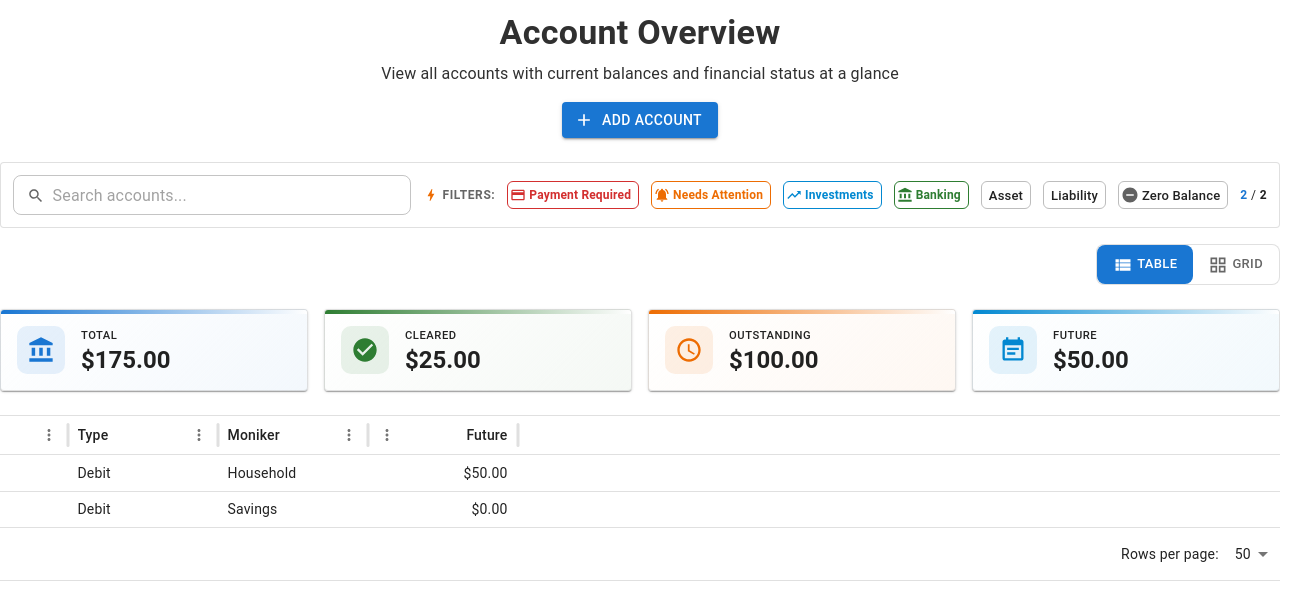
Scenario: pages/finance/index (Accounts) › Search and Filtering › filters accounts by search term
This screenshot has width=1292, height=598.
Note: Verify search input is functional
Type "Chase" into the field with placeholder "Search accounts..." at [232, 196], box [53,176,411,216]
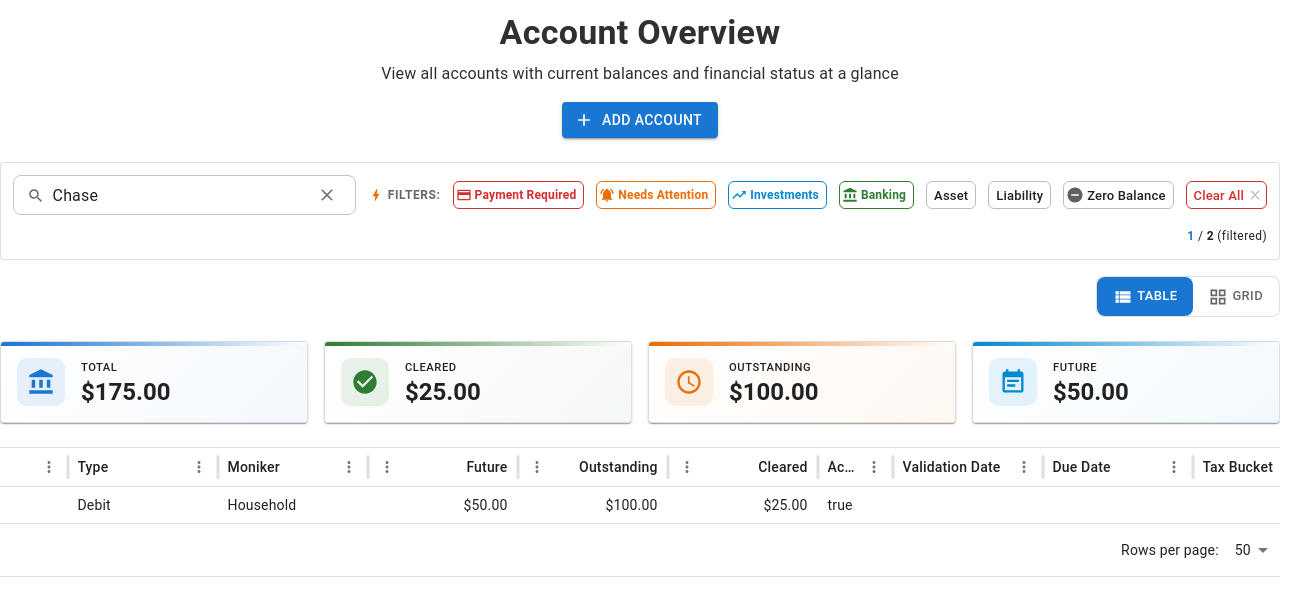
Result: the text "Clear All" is shown at [1194,188,1244,203]
